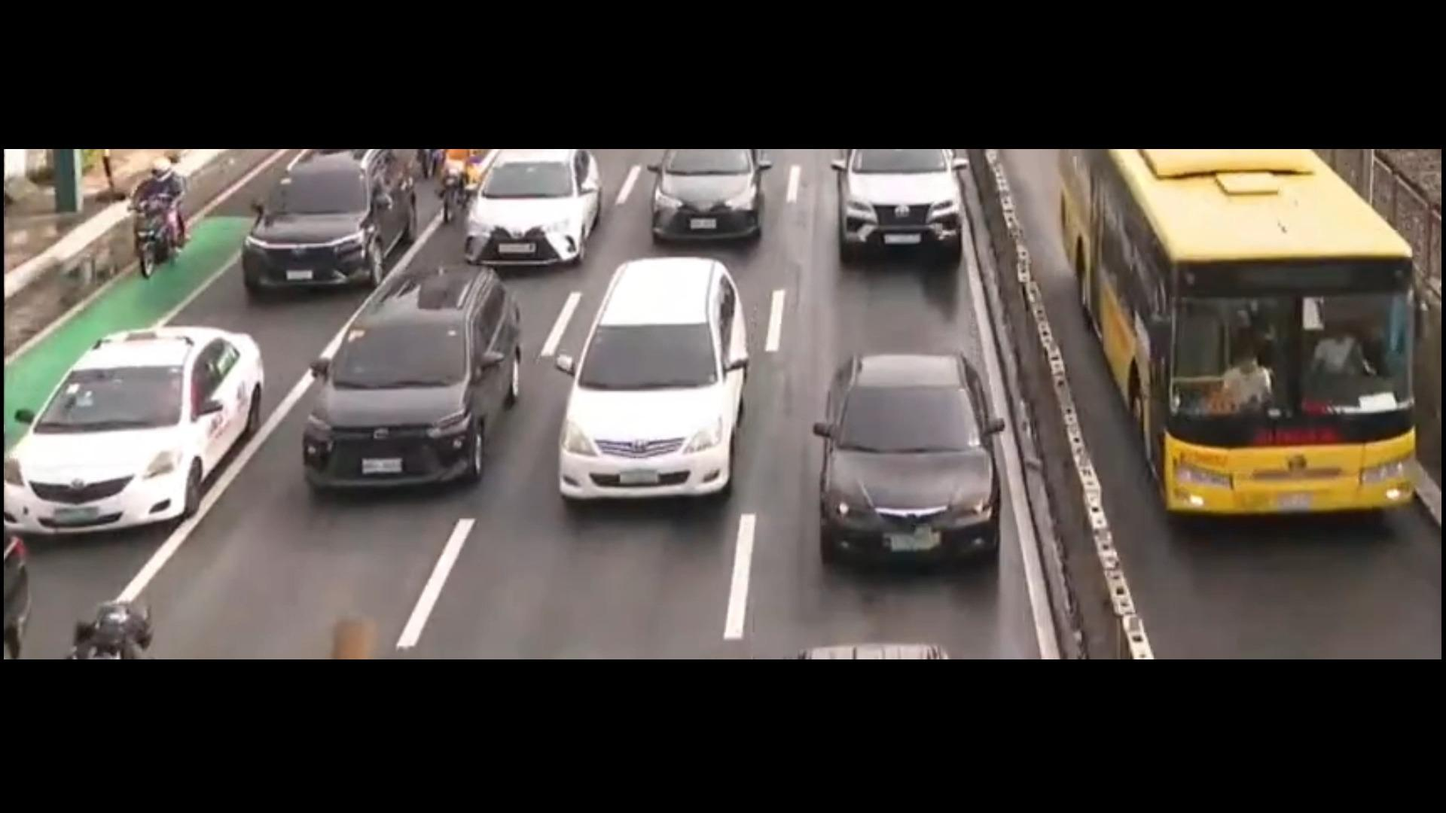Bus: (1043, 142, 1438, 530)
Motorcycle: (108, 153, 207, 285), (438, 145, 479, 226)
SUV: (260, 241, 541, 506), (539, 232, 776, 511), (245, 151, 420, 292), (831, 138, 976, 267)
Sedan: (0, 303, 279, 544), (801, 345, 1040, 565), (468, 149, 603, 265), (647, 153, 774, 255)
